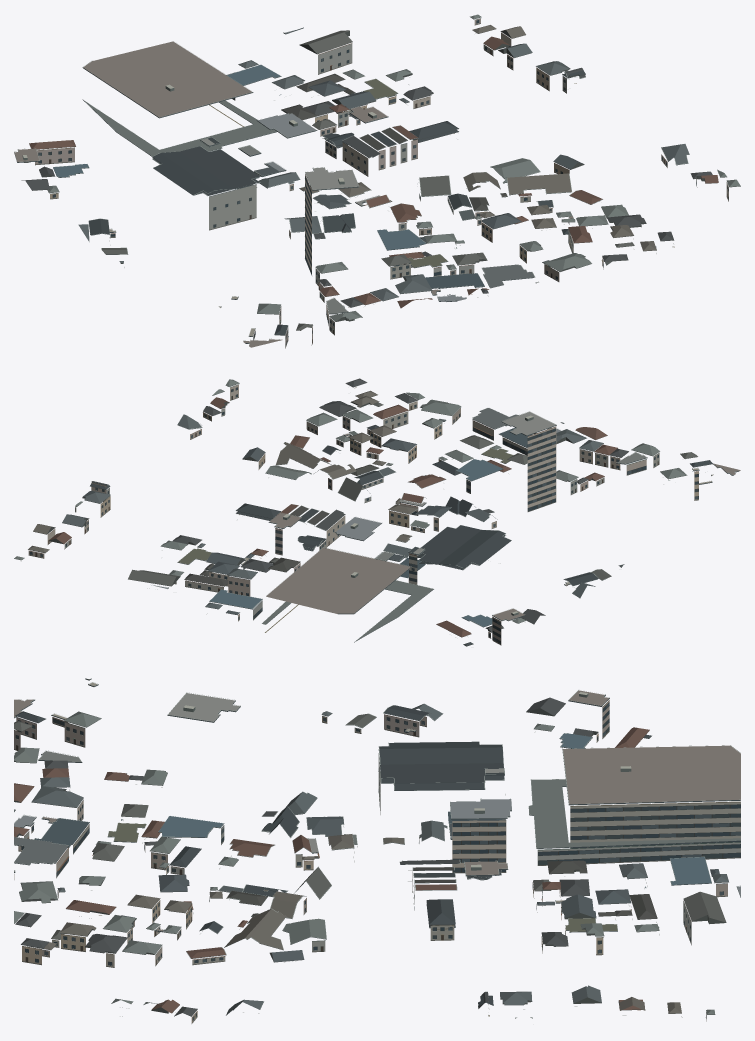
3 views of the same model, one above another, from view 1: azimuth 30°, elevation 25°; view 2: azimuth 150°, elevation 25°; view 3: azimuth 270°, elevation 25° (orthographic). The views are drawn at different scales.
Parts seen in each view (by area): view 1: r2-c3; view 2: r2-c3; view 3: r2-c3.
Part boxes in pixels (x1,y1,x2,y2): r2-c3: (14, 14, 740, 348); r2-c3: (14, 378, 740, 646); r2-c3: (14, 678, 740, 1023).
Size of the model in its own units: 250 by 44.14 by 250.
